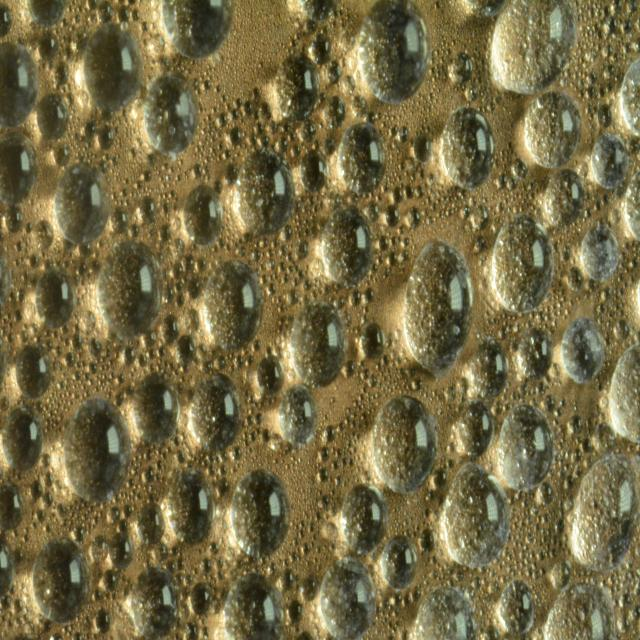dr: (402, 238, 474, 377), (568, 450, 639, 572), (490, 1, 581, 95), (61, 396, 132, 500), (442, 459, 509, 568), (357, 0, 427, 104), (372, 392, 438, 495), (491, 210, 554, 316), (98, 240, 163, 342), (199, 257, 265, 352), (232, 145, 296, 238), (230, 465, 292, 561), (80, 19, 139, 115), (290, 300, 348, 390), (54, 158, 111, 248), (318, 555, 377, 640), (498, 403, 553, 491), (32, 536, 87, 622), (160, 0, 237, 60), (525, 90, 582, 171), (144, 71, 198, 156), (441, 107, 496, 190), (543, 577, 612, 640), (320, 205, 372, 285), (189, 371, 241, 450), (224, 571, 283, 640), (408, 584, 478, 640), (336, 118, 386, 194), (164, 466, 212, 544), (340, 481, 389, 556), (274, 49, 320, 126), (131, 566, 179, 639), (0, 42, 40, 129), (609, 340, 640, 445), (133, 372, 179, 442), (562, 316, 608, 384), (0, 129, 37, 208), (277, 380, 317, 450), (467, 334, 509, 400), (1, 407, 43, 472), (183, 181, 224, 247), (580, 221, 620, 284), (34, 266, 72, 329), (544, 169, 585, 227), (450, 402, 493, 457), (499, 577, 536, 640), (516, 322, 554, 382), (381, 533, 419, 591), (16, 343, 53, 402), (591, 132, 628, 190), (620, 56, 640, 140), (37, 91, 69, 142), (300, 148, 328, 195), (137, 502, 166, 546), (257, 352, 286, 396), (0, 481, 25, 532), (25, 0, 71, 27), (447, 51, 475, 89), (360, 322, 385, 363), (321, 94, 346, 132), (188, 582, 214, 617), (109, 532, 132, 569), (310, 30, 333, 64), (32, 218, 55, 250), (176, 332, 198, 364), (136, 195, 158, 227), (412, 130, 431, 164), (5, 206, 24, 235)
